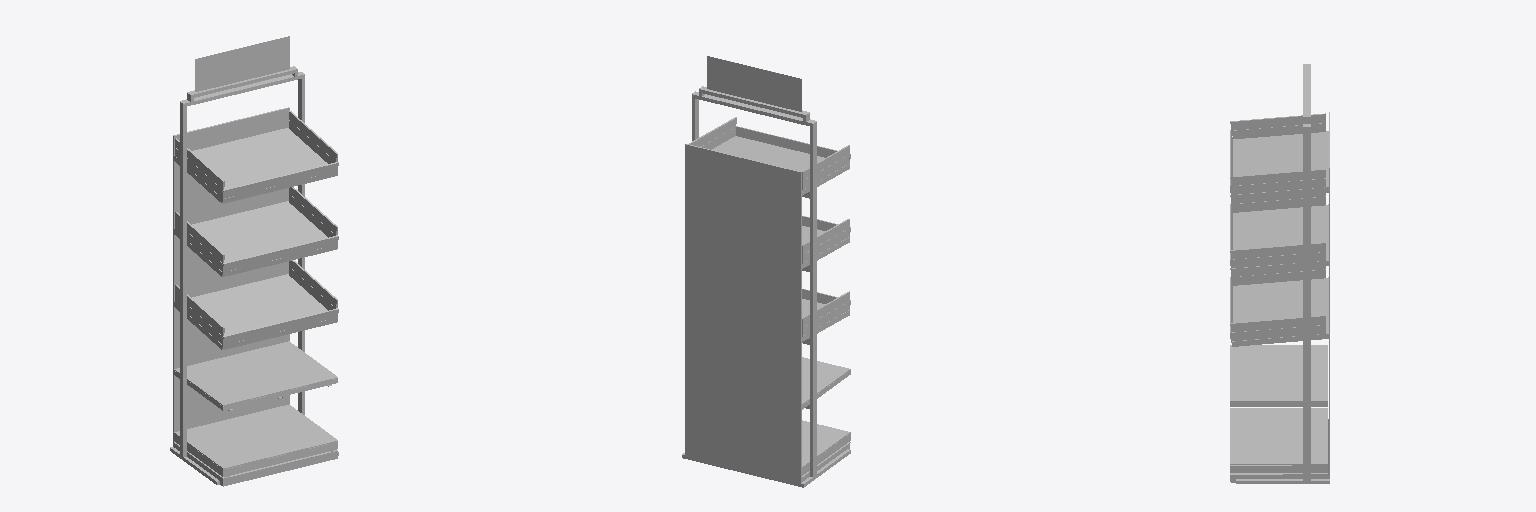
File: The-Display-Rack.obj
The picture shows the model from 3 angles: view 1: azimuth 30°, elevation 25°; view 2: azimuth 150°, elevation 25°; view 3: azimuth 270°, elevation 25°; orthographic projection.
Parts seen in each view (by area): view 1: shelfs/baskets_Cube.010, Rear_Ply_Plane.001, Metal_Stand_Cube.019, Nameplate_Cube.005; view 2: Rear_Ply_Plane.001, shelfs/baskets_Cube.010, Metal_Stand_Cube.019, Nameplate_Cube.005; view 3: shelfs/baskets_Cube.010, Metal_Stand_Cube.019.
Boxes of the visible parts, x1,y1,x2,y2 form: shelfs/baskets_Cube.010: [174, 111, 338, 486]; Rear_Ply_Plane.001: [173, 107, 289, 446]; Metal_Stand_Cube.019: [170, 66, 338, 484]; Nameplate_Cube.005: [195, 36, 289, 91]; Rear_Ply_Plane.001: [685, 144, 801, 486]; shelfs/baskets_Cube.010: [689, 117, 850, 481]; Metal_Stand_Cube.019: [682, 86, 850, 487]; Nameplate_Cube.005: [707, 56, 801, 111]; shelfs/baskets_Cube.010: [1230, 113, 1328, 482]; Metal_Stand_Cube.019: [1236, 64, 1329, 483].
Size of the model in its own units: 0.926 by 2.88 by 0.6645.